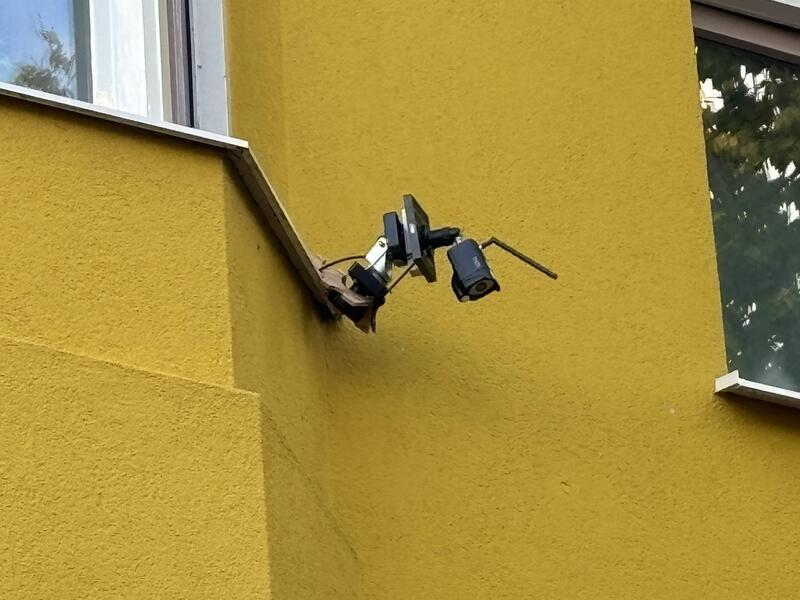bullet: (440, 231, 509, 325)
